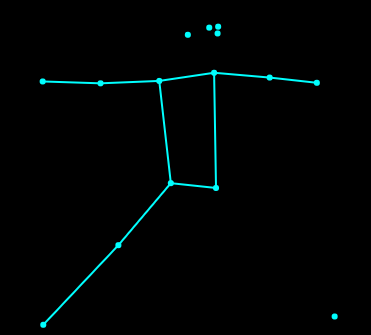warrior_2: (34, 21, 342, 329)
